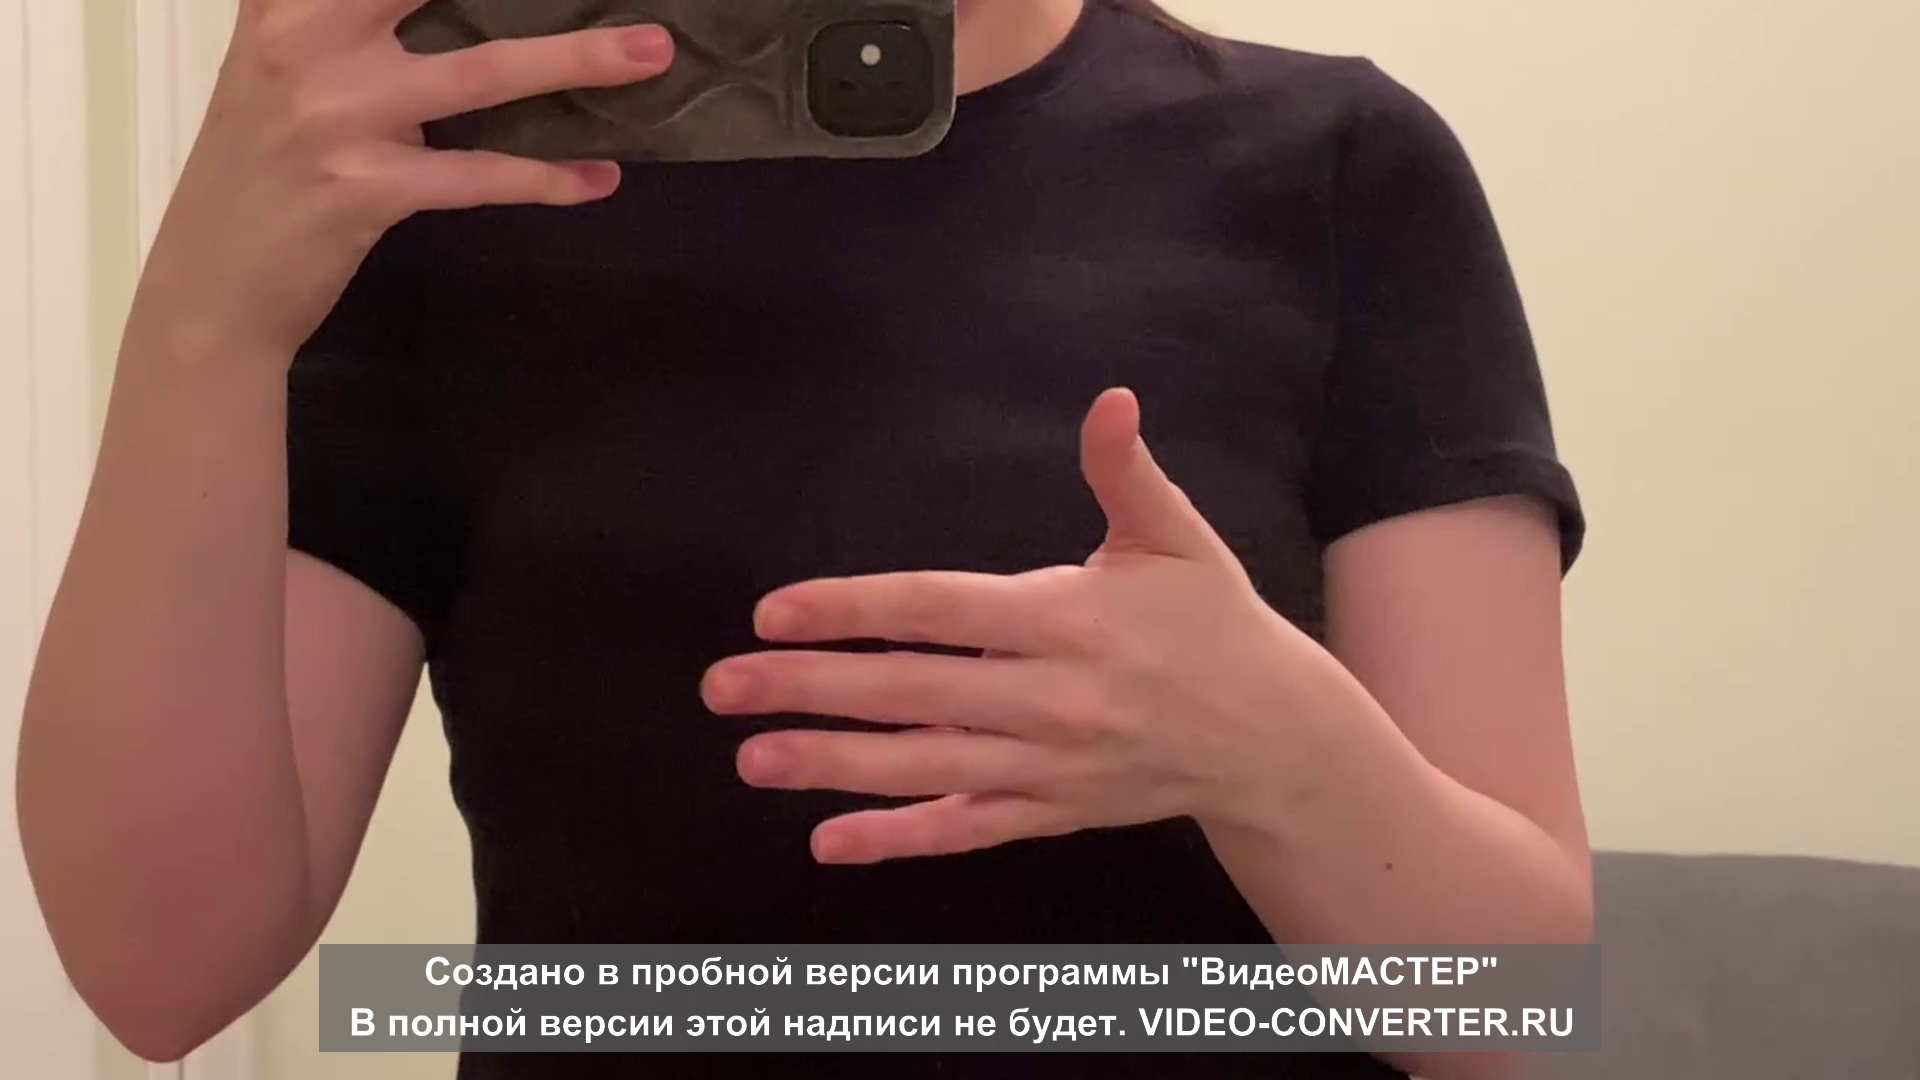Кисть: (702, 385, 1274, 866)
